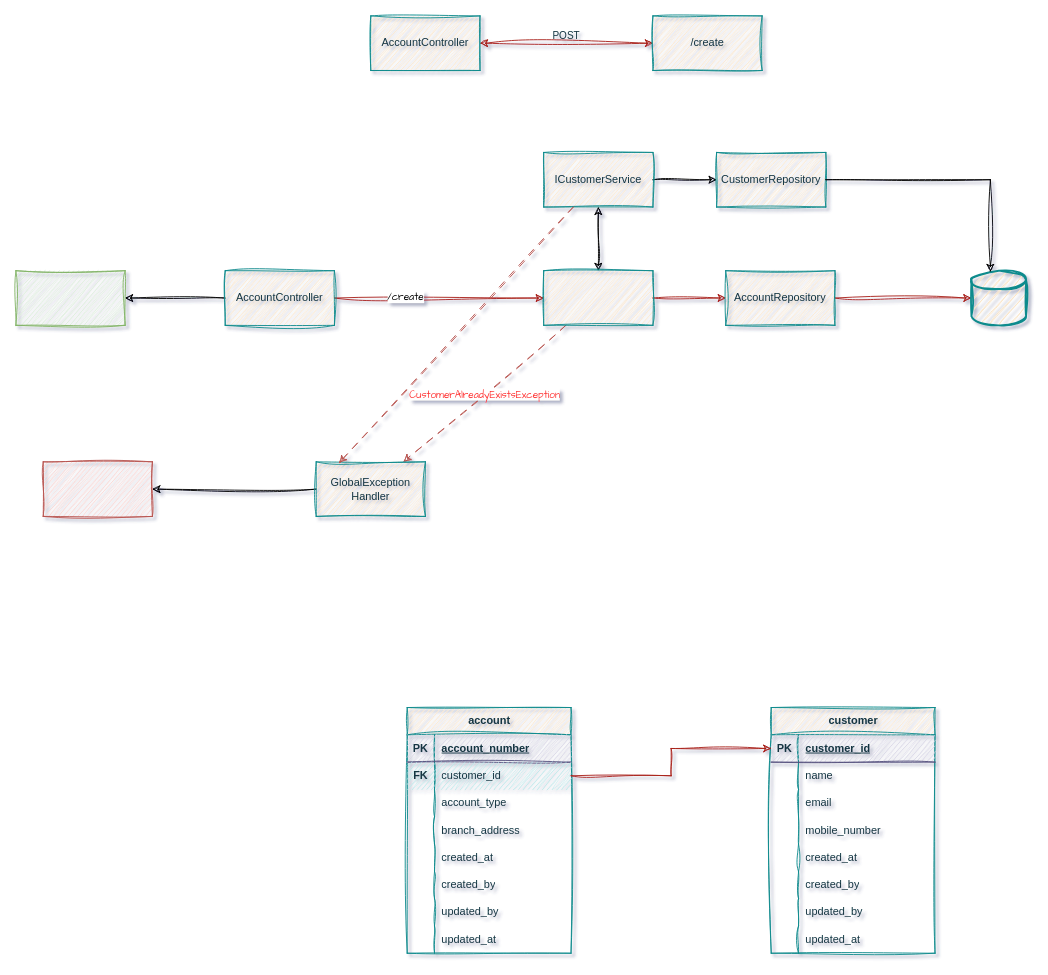
Image size: 1048x975. Some labels were removed from this diagram. The shapes that lost their labels are listed below. From the top down, each one's centre as x and y in pixels, then its label:
the point at 70,297: Success Response
the point at 598,297: IAccountService
the point at 998,297: testDB
the point at 97,488: Error Response
